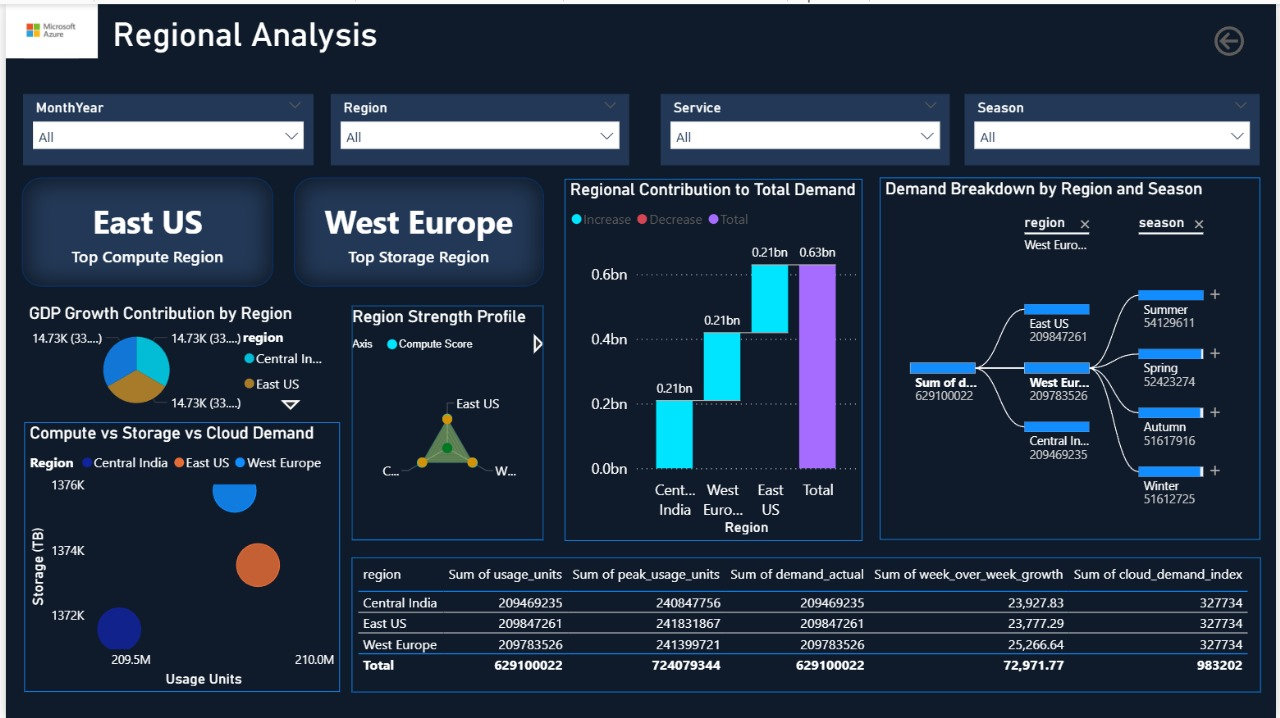

The page's visual inventory and layout, read from the dashboard file:
{"tool":"powerbi","page":{"name":"Page 2","canvas":[1280,720],"ordinal":1},"visuals":[{"type":"slicer","fields":{"Values":["Gold_final.MonthYear"]},"box":[17,90.7,292.9,71.8],"z":0},{"type":"shape","box":[0,0,1279.4,71.8],"z":1000},{"type":"textbox","title":"Regional Analysis","box":[49.1,17,788,37.8],"z":2000},{"type":"slicer","fields":{"Values":["Gold_final.region"]},"box":[326.9,90.7,300.5,71.8],"z":3000},{"type":"slicer","fields":{"Values":["Gold_final.service"]},"box":[659.5,90.7,291,71.8],"z":4000},{"type":"slicer","fields":{"Values":["Gold_final.season"]},"box":[965.5,90,297.3,71.8],"z":5000},{"type":"card","fields":{"Values":["Gold_final.Top Compute Region"]},"box":[16.7,175,253.3,110],"z":6000},{"type":"card","fields":{"Values":["Gold_final.Top Storage Region"]},"box":[290,175,251.7,110],"z":7000},{"type":"tableEx","fields":{"Values":["Gold_final.region","Sum(Gold_final.usage_units)","Sum(Gold_final.peak_usage_units)","Sum(Gold_final.demand_actual)","Sum(Gold_final.week_over_week_growth)","Sum(Gold_final.cloud_demand_index)"]},"box":[348,558,916,136],"z":8000},{"type":"scatterChart","title":"Compute vs Storage vs Cloud Demand","fields":{"X":["Sum(Gold_final.usage_units)"],"Y":["Sum(Gold_final.storage_tb)"],"Size":["Sum(Gold_final.cloud_demand_index)"],"Series":["Gold_final.region"]},"box":[18,422,318,272],"z":9000},{"type":"decompositionTreeVisual","title":"Demand Breakdown by Region and Season","fields":{"Analyze":["Sum(Gold_final.demand_actual)"],"ExplainBy":["Gold_final.region","Gold_final.season","Gold_final.service"]},"box":[880,175,383.3,365],"z":10000},{"type":"waterfallChart","title":"Regional Contribution to Total Demand","fields":{"Category":["Gold_final.region"],"Y":["Sum(Gold_final.demand_actual)"]},"box":[563.3,176.7,300,365],"z":11000},{"type":"RadarChart1446119667547","title":"Region Strength Profile","fields":{"Category":["Gold_final.region"],"Y":["Gold_final.Compute Score","Gold_final.Storage Score","Gold_final.Demand Score","Gold_final.Avg Cloud Index"]},"box":[348.3,303.3,193.3,236.7],"z":12000},{"type":"pieChart","title":"GDP Growth Contribution by Region","fields":{"Category":["Gold_final.region"],"Y":["Sum(Gold_final.gdp_growth)"]},"box":[18.3,301.7,318.3,115],"z":13000}]}

Visuals, with their boxes in screenshot pixels (x1, y1, x2, y2), scaled from the page's 1280x720 canvas onto the 1280x718 screenshot:
slicer - Gold_final.MonthYear: 17,90,310,162
shape: 0,0,1279,72
"Regional Analysis" textbox: 49,17,837,55
slicer - Gold_final.region: 327,90,627,162
slicer - Gold_final.service: 660,90,950,162
slicer - Gold_final.season: 966,90,1263,161
card - Gold_final.Top Compute Region: 17,175,270,284
card - Gold_final.Top Storage Region: 290,175,542,284
tableEx - Gold_final.region x Sum(Gold_final.usage_units): 348,556,1264,692
"Compute vs Storage vs Cloud Demand" scatterChart: 18,421,336,692
"Demand Breakdown by Region and Season" decompositionTreeVisual: 880,175,1263,538
"Regional Contribution to Total Demand" waterfallChart: 563,176,863,540
"Region Strength Profile" RadarChart1446119667547: 348,302,542,538
"GDP Growth Contribution by Region" pieChart: 18,301,337,416
